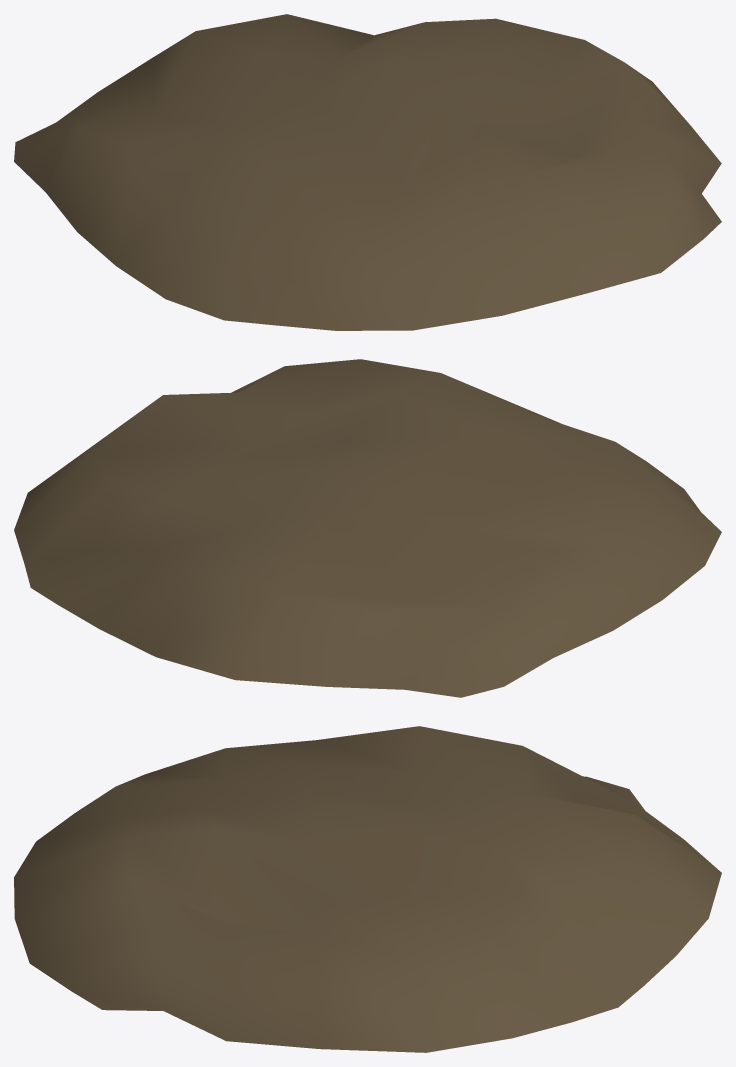
The model's file is noise_rocks_1.fbx.
The picture shows the model from 3 angles, top to bottom: view 1: azimuth 30°, elevation 25°; view 2: azimuth 150°, elevation 25°; view 3: azimuth 270°, elevation 25°; orthographic projection. The views are drawn at different scales.
Visible parts, largest first — view 1: noise_rocks_1; view 2: noise_rocks_1; view 3: noise_rocks_1.
Boxes of the visible parts, x1,y1,x2,y2 form: noise_rocks_1: [14, 14, 721, 330]; noise_rocks_1: [14, 359, 721, 697]; noise_rocks_1: [14, 726, 721, 1052].
Size of the model in its own units: 345 by 52.64 by 354.
